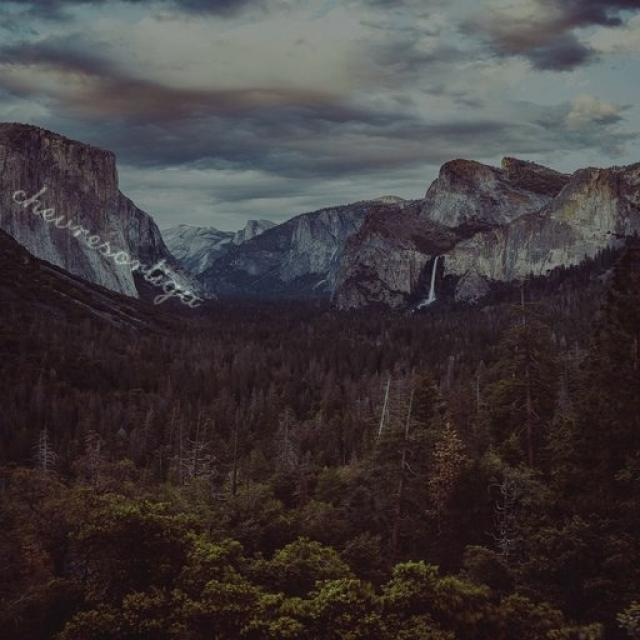watermark: (0, 167, 224, 317)
